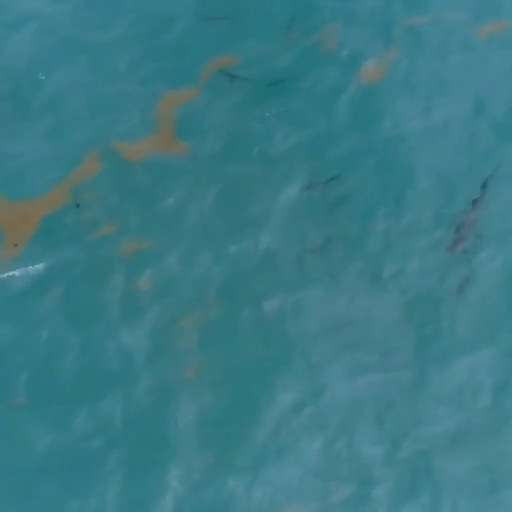shark: (442, 161, 504, 262)
